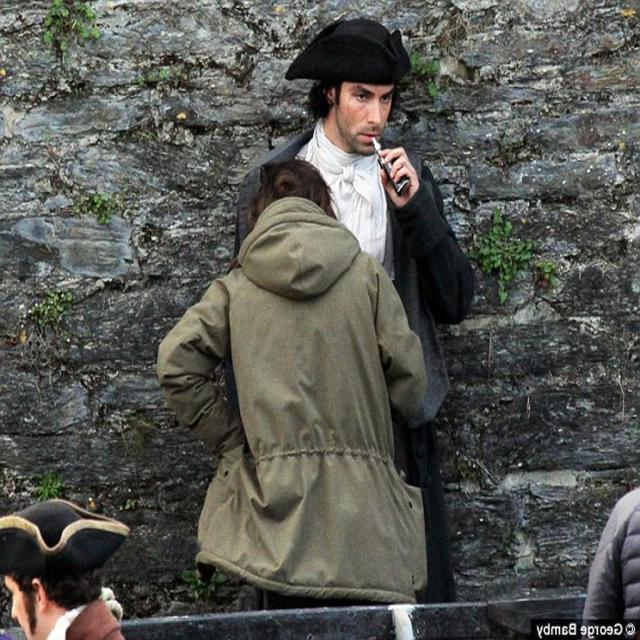smoking: (372, 135, 411, 197)
